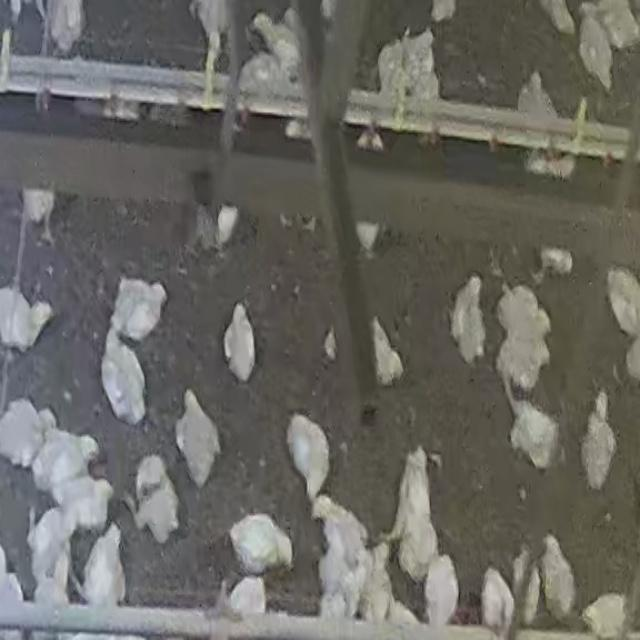chicken: (387, 446, 439, 579), (493, 283, 551, 393), (100, 332, 150, 429), (175, 389, 221, 490), (132, 455, 182, 546), (373, 28, 442, 92), (506, 396, 561, 474), (27, 501, 76, 588), (226, 511, 297, 571), (286, 413, 331, 505), (108, 276, 168, 344), (251, 9, 308, 80), (580, 392, 618, 492), (34, 429, 98, 486), (536, 532, 576, 622), (0, 286, 52, 355), (80, 526, 124, 606), (450, 276, 488, 366), (0, 395, 47, 466), (314, 497, 365, 560), (358, 543, 396, 625), (56, 477, 110, 531), (223, 302, 258, 384), (423, 555, 460, 629), (479, 564, 518, 634), (197, 0, 234, 72), (194, 207, 248, 256), (579, 5, 610, 89), (605, 266, 640, 340), (515, 72, 562, 125), (20, 187, 58, 251), (370, 316, 404, 386), (513, 547, 542, 625), (595, 0, 640, 50), (31, 552, 70, 608), (581, 592, 627, 638), (226, 574, 269, 617), (320, 574, 360, 620), (46, 0, 82, 49), (317, 533, 345, 589), (540, 0, 578, 35), (355, 220, 381, 255), (431, 0, 457, 23)
